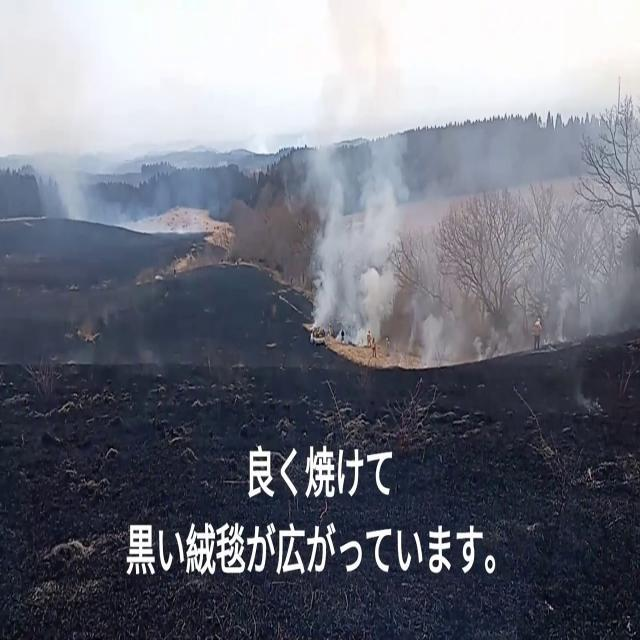Smoke: (290, 59, 640, 354), (45, 157, 126, 235)
